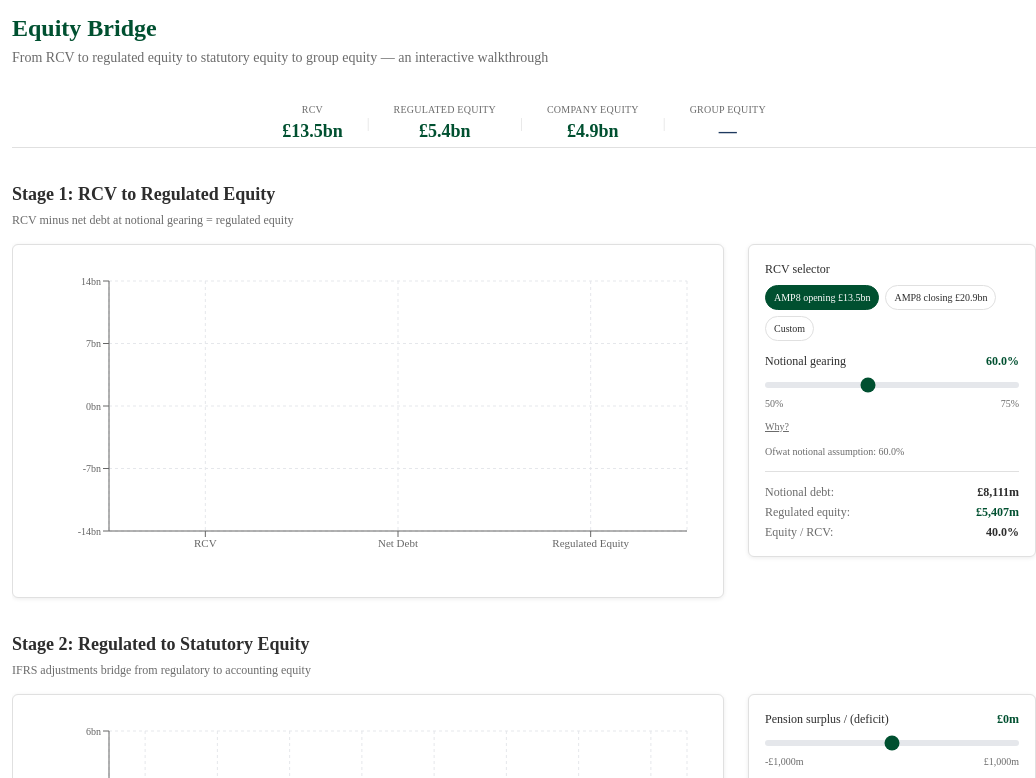
Test: EquityBridge › pension slider updates statutory equity correctly
The image size is (1036, 778).
Check: the heading "Stage 2: Regulated to Statutory Equity" is shown, box [12, 634, 310, 654]
Set the slider below "Pension surplus / (deficit)" to "500" at (952, 743), box [765, 740, 1019, 746]
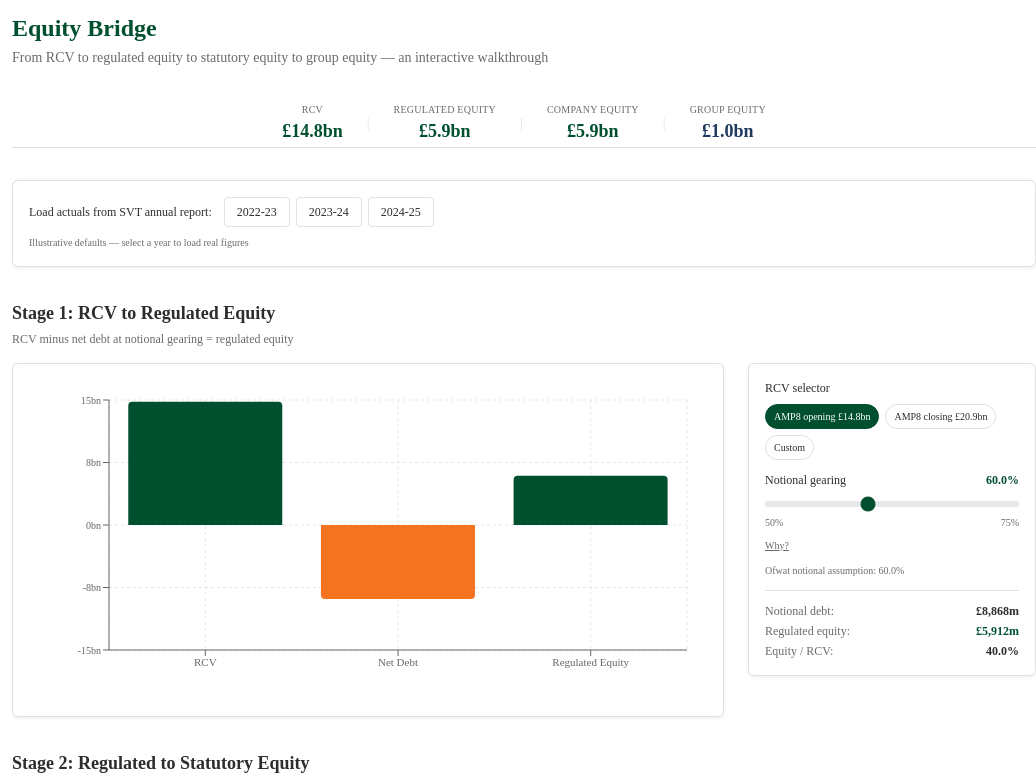
Check: the text "£5,912m" is shown, box [976, 623, 1019, 639]
